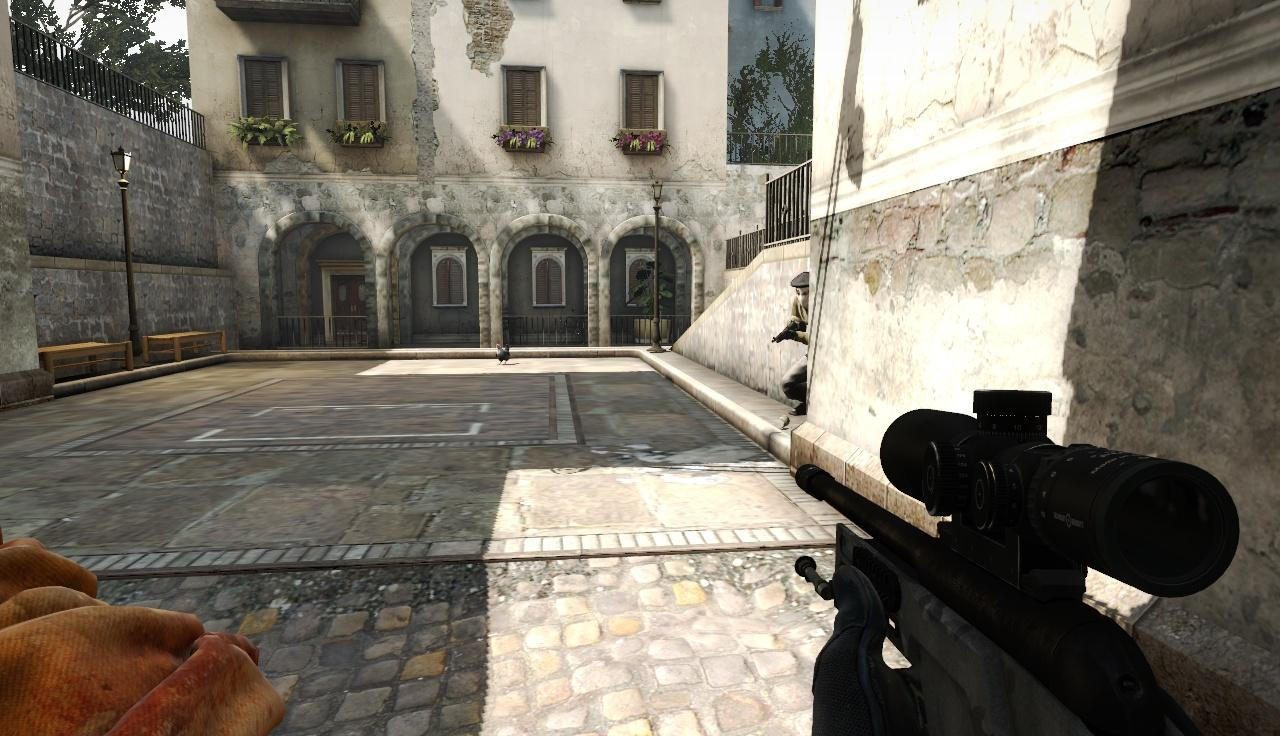sniper: (791, 413, 1280, 736)
tt: (782, 271, 810, 413)
tthead: (792, 272, 810, 309)
